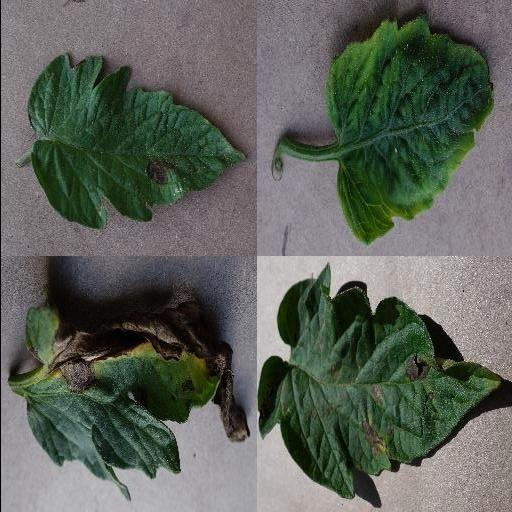Early Blight: (256, 263, 502, 498), (21, 297, 225, 503), (27, 57, 249, 232)
Yellow Leaf Curl Virus: (326, 19, 494, 249)
